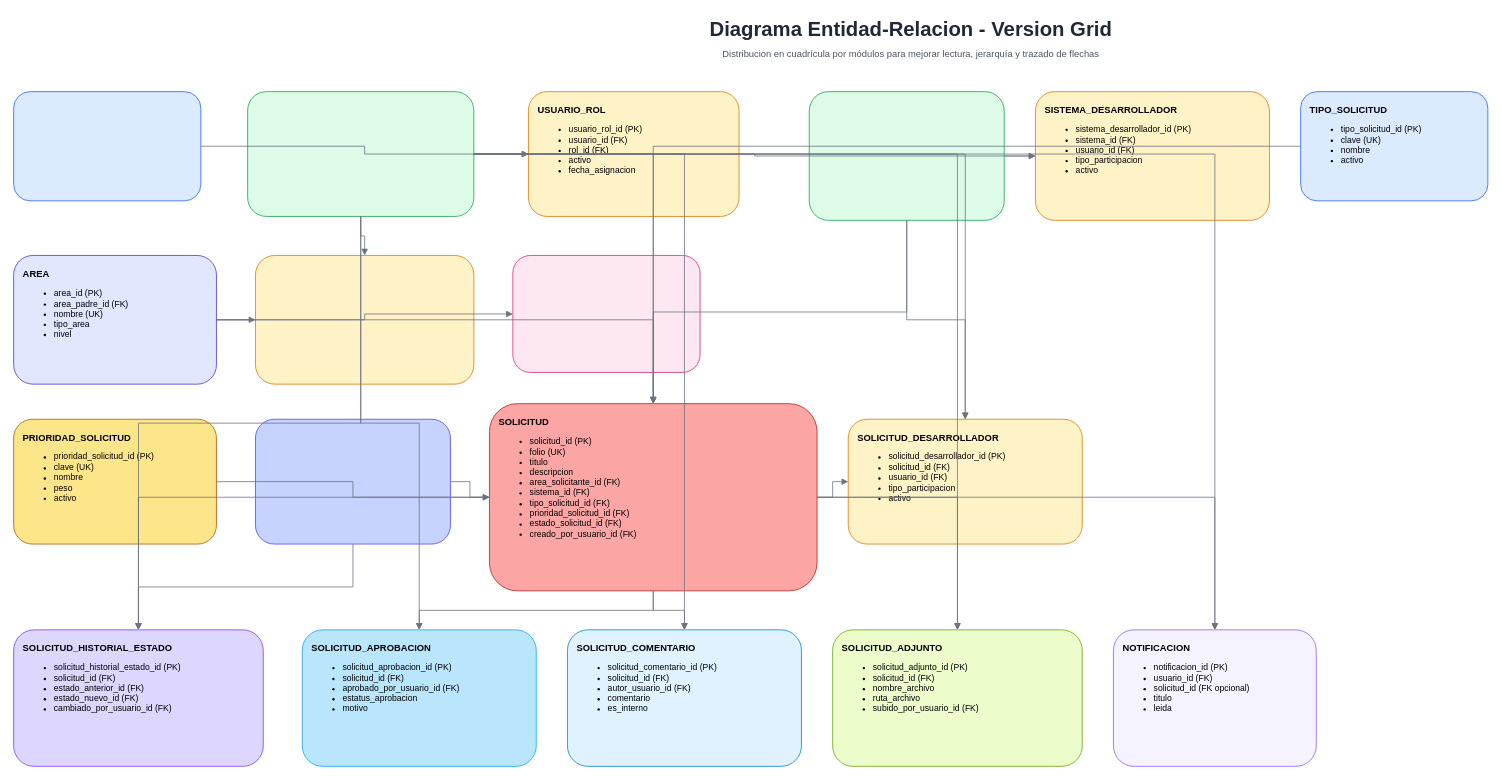
Some shapes in this 1502 by 780 pixel diagram are drawn without their labels. The centre of each missing label's shape, as x and y in pixels:
AREA_SISTEMA area_sistema_id (PK) area_id (FK) sistema_id (FK) activo: [606,313]
ESTADO_SOLICITUD estado_solicitud_id (PK) clave (UK) nombre es_terminal activo: [352,481]
ROL rol_id (PK) clave (UK) nombre activo: [107,146]
SISTEMA sistema_id (PK) clave (UK) nombre descripcion activo: [906,155]
USUARIO usuario_id (PK) nombre correo_institucional (UK) puesto activo: [360,153]
USUARIO_AREA usuario_area_id (PK) usuario_id (FK) area_id (FK) es_titular activo: [364,319]
